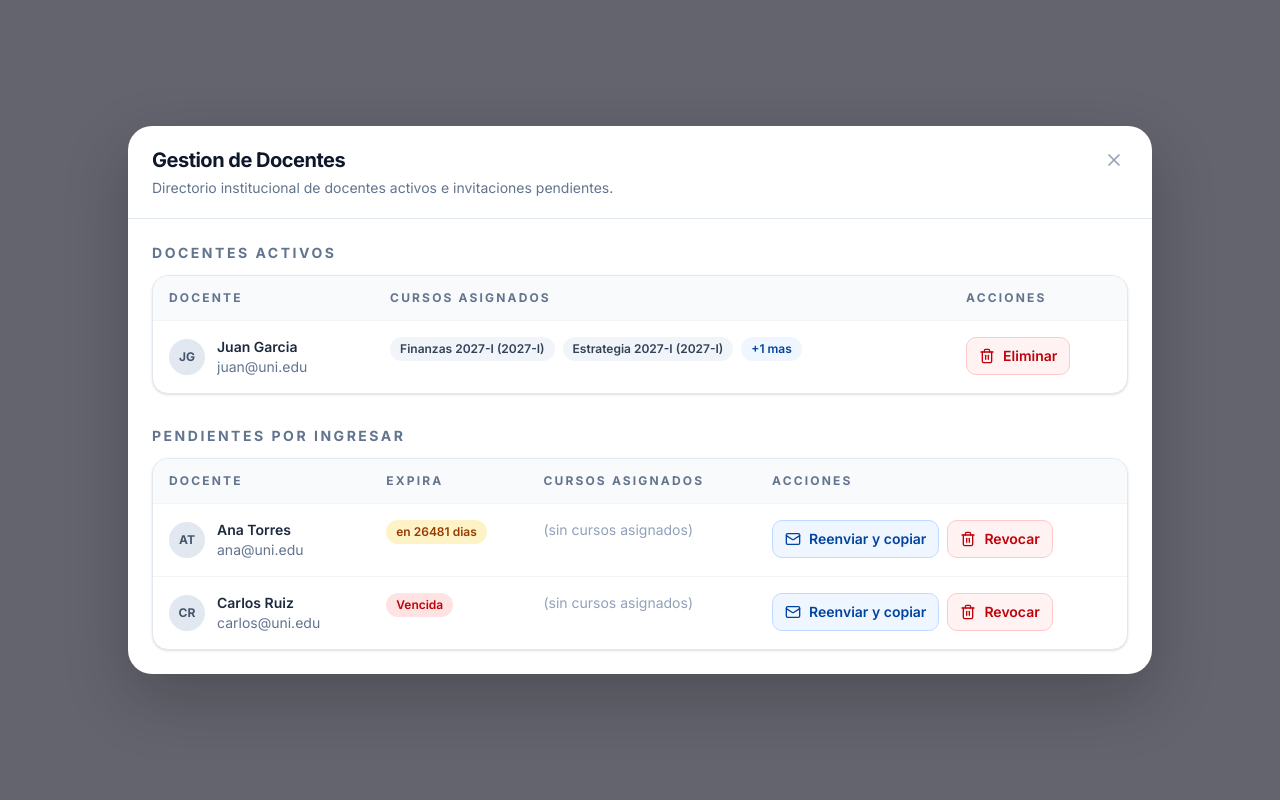
TeacherDirectoryModal › removes a teacher with confirmation and clears related caches
This screenshot has width=1280, height=800.
Check: the text "Juan Garcia" is shown, box [217,337,307,357]
Click the button "Eliminar" at (1018, 356), box [966,337,1070,375]
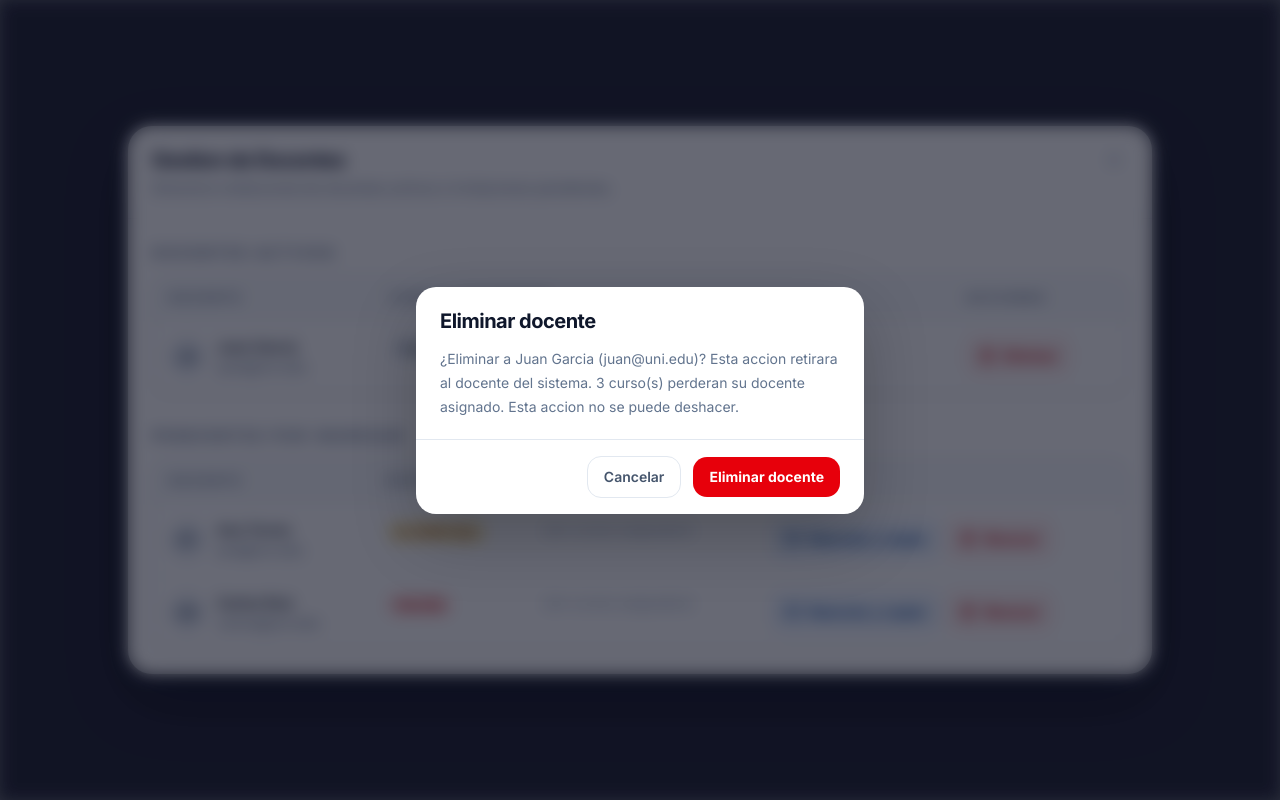
Click the button "Eliminar docente" at (767, 476), box [693,456,840,496]
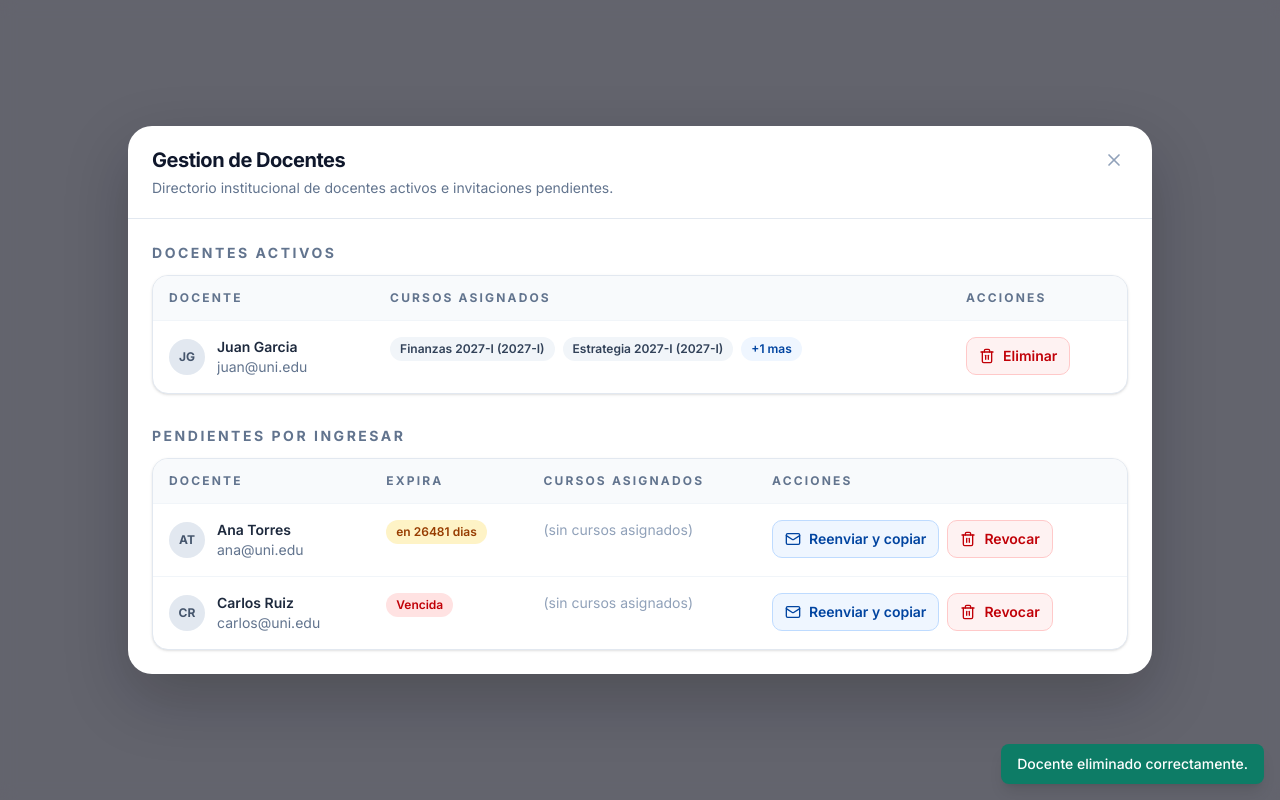
Check: the message reads "Docente eliminado correctamente.", box [1017,755,1248,772]
